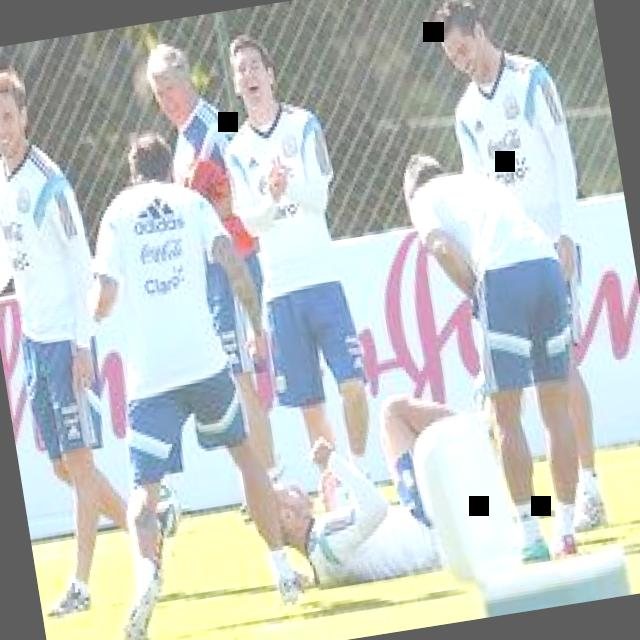Fall-Detected: (237, 356, 532, 608)
